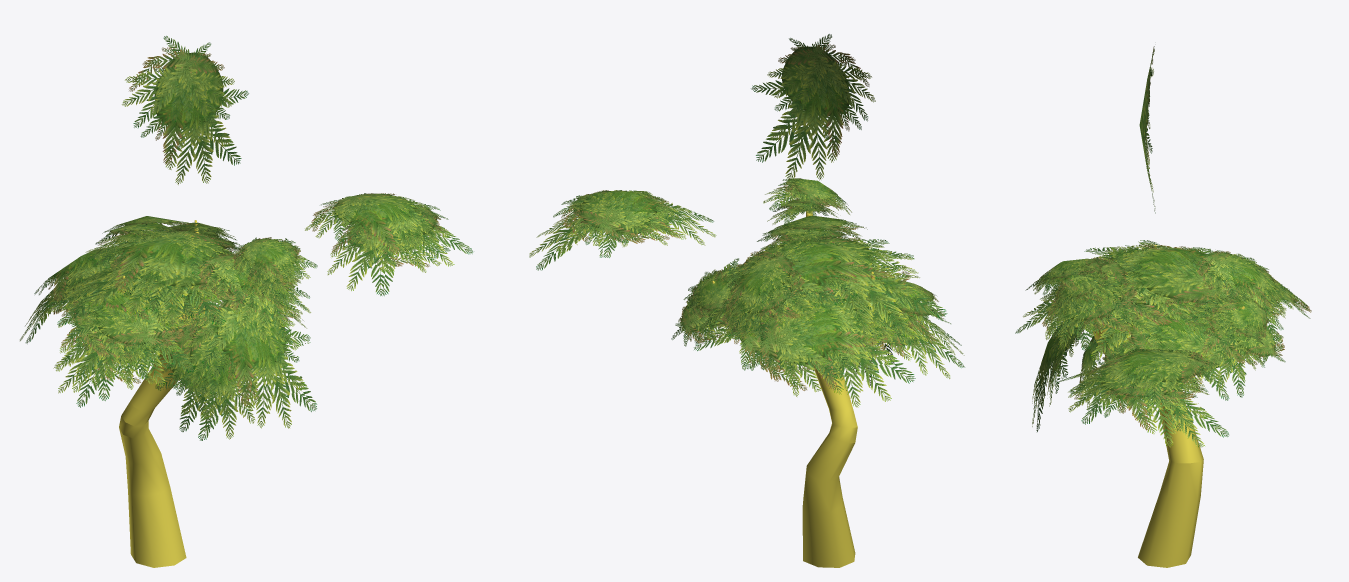
The model's file is 10_Arbol con Hojas de Helecho.fbx.
The picture shows the model from 3 angles, left to right: view 1: azimuth 30°, elevation 25°; view 2: azimuth 150°, elevation 25°; view 3: azimuth 270°, elevation 25°; orthographic projection.
Visible parts, largest first — view 1: 0_Racimo_Helechos.001; view 2: 0_Racimo_Helechos.001; view 3: 0_Racimo_Helechos.001.
Boxes of the visible parts, x1,y1,x2,y2 form: 0_Racimo_Helechos.001: (20, 36, 472, 567); 0_Racimo_Helechos.001: (529, 34, 964, 567); 0_Racimo_Helechos.001: (1015, 46, 1311, 567).
Bounding box in the file's own units: 1083 × 1210 × 694.
